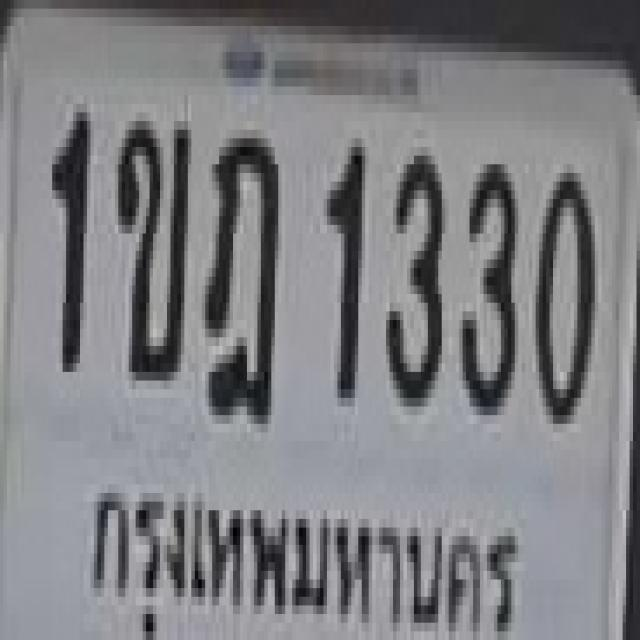0: (532, 164, 591, 415)
1: (323, 134, 362, 394), (49, 104, 87, 363)
3: (382, 147, 442, 398), (459, 156, 515, 407)
A02: (115, 112, 188, 372)
A14: (202, 130, 275, 415)
BKK: (80, 467, 526, 640)
